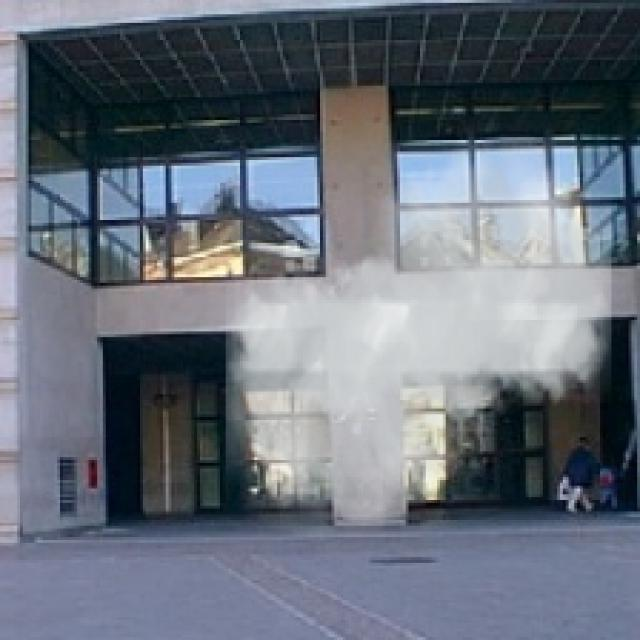Smoke: (226, 137, 612, 537)
